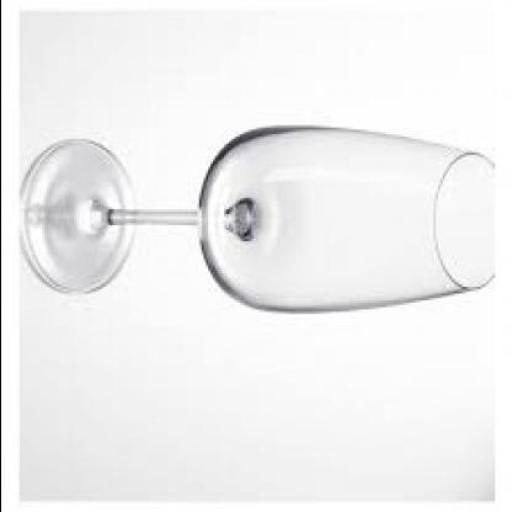glass: (23, 125, 498, 309)
